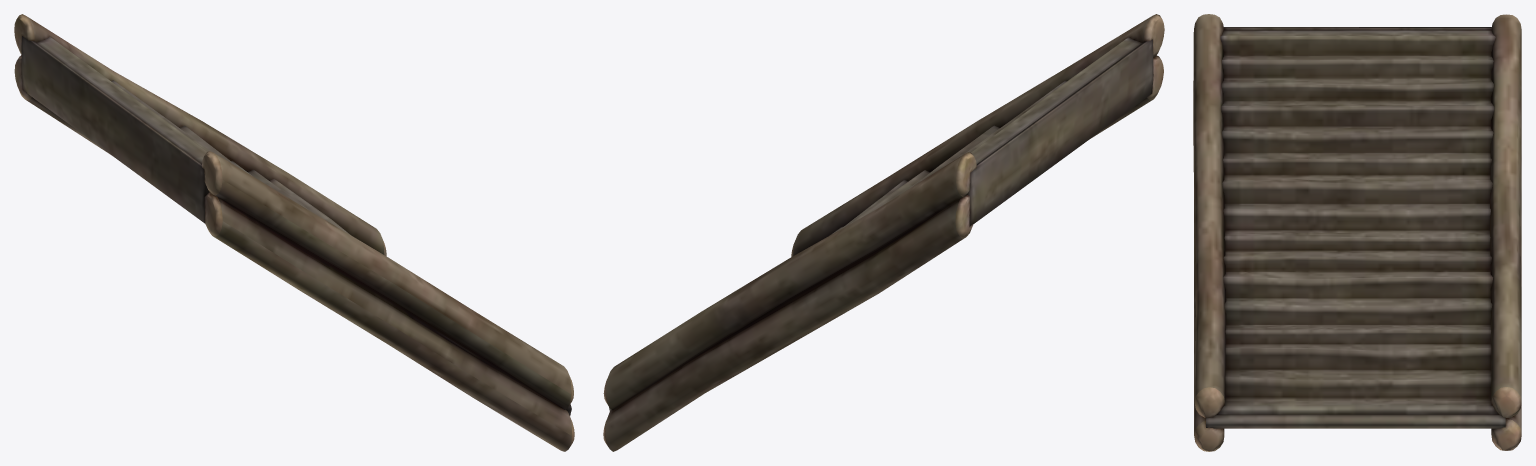
File: SM_Stair_Wood_0b4b4f.glb
3 views of the same model, side by side, from view 1: azimuth 30°, elevation 25°; view 2: azimuth 150°, elevation 25°; view 3: azimuth 270°, elevation 25° (orthographic). The views are drawn at different scales.
Size of the model in its own units: 4.03 by 4.08 by 4.
1 material, 1 textured.
